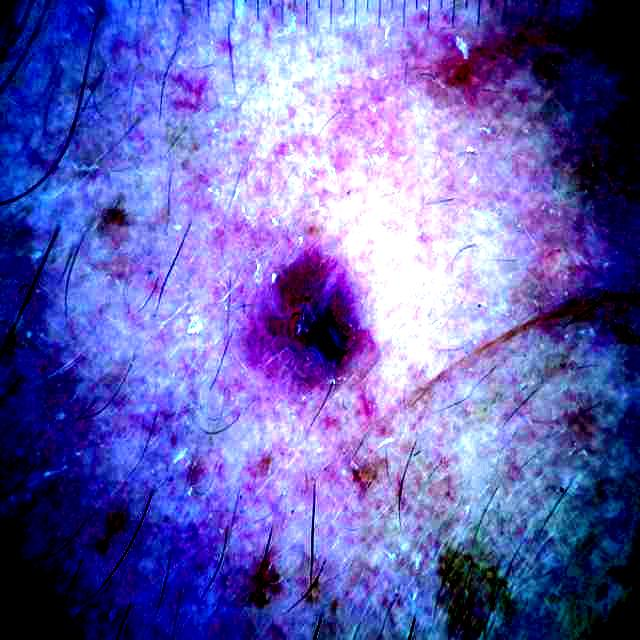BCC: (249, 245, 378, 389)
